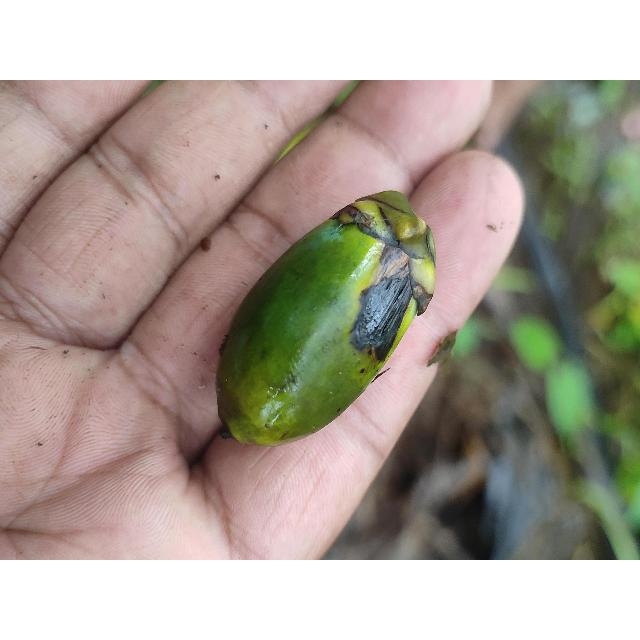damaged: (214, 190, 439, 448)
